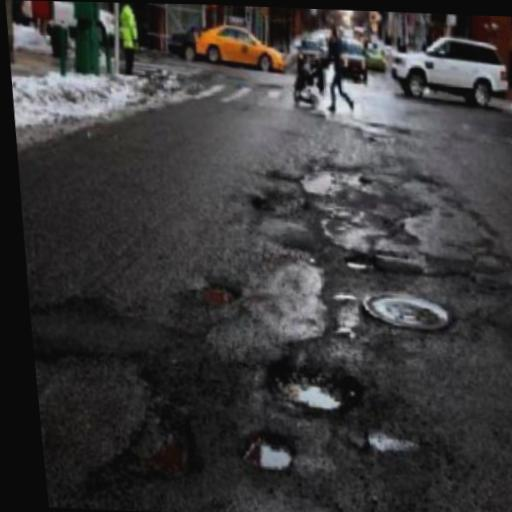pothole: (86, 387, 195, 489), (264, 359, 364, 412), (237, 432, 295, 474), (194, 285, 239, 304)
